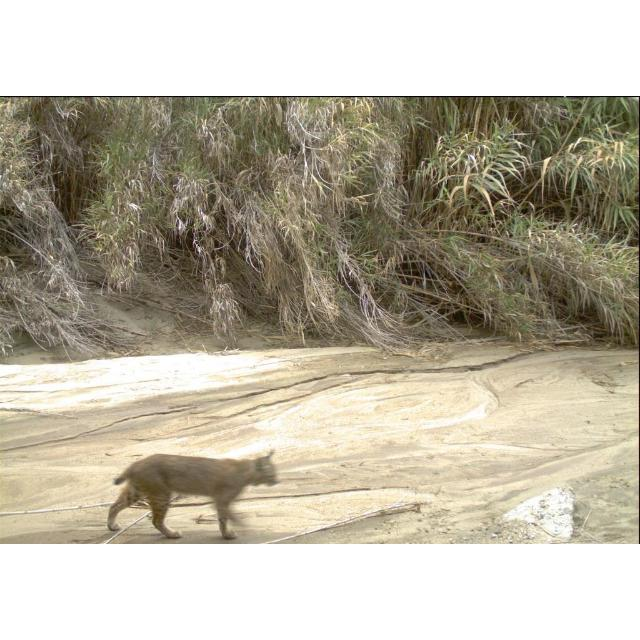animals: (102, 444, 280, 544)
